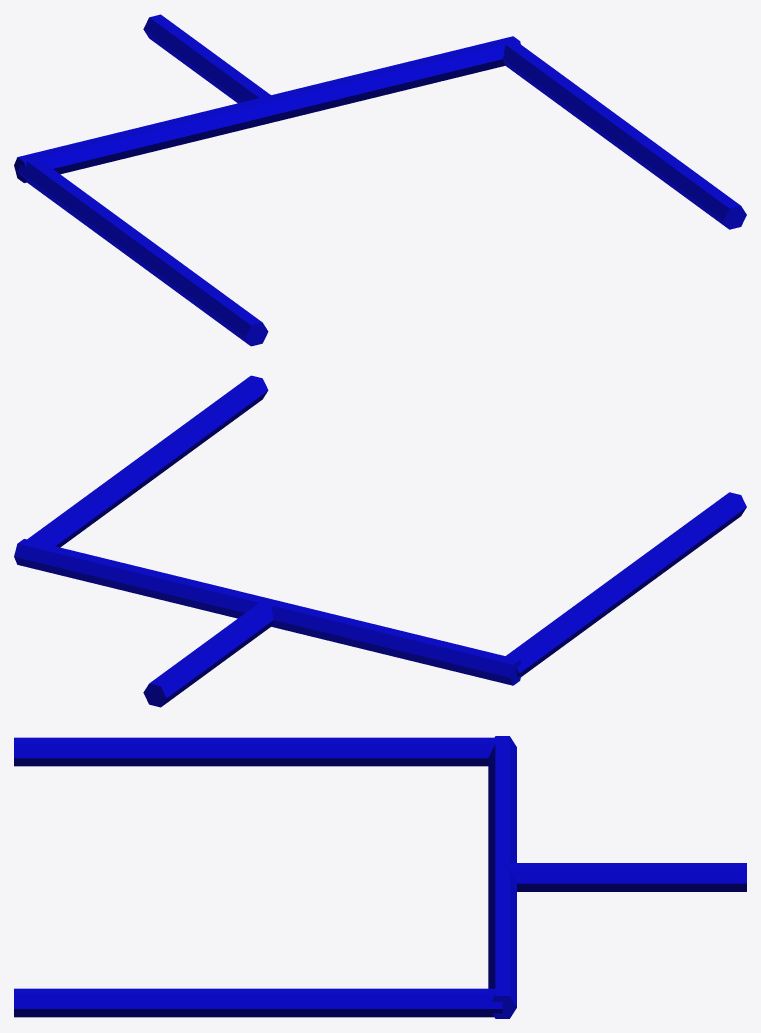
The model's file is gripper_for_cgn.obj.
3 renders of one model, top to bottom at view 1: azimuth 30°, elevation 25°; view 2: azimuth 150°, elevation 25°; view 3: azimuth 270°, elevation 25°, orthographic. The views are drawn at different scales.
Size of the model in its own units: 0.086 by 0.00346 by 0.1013.
